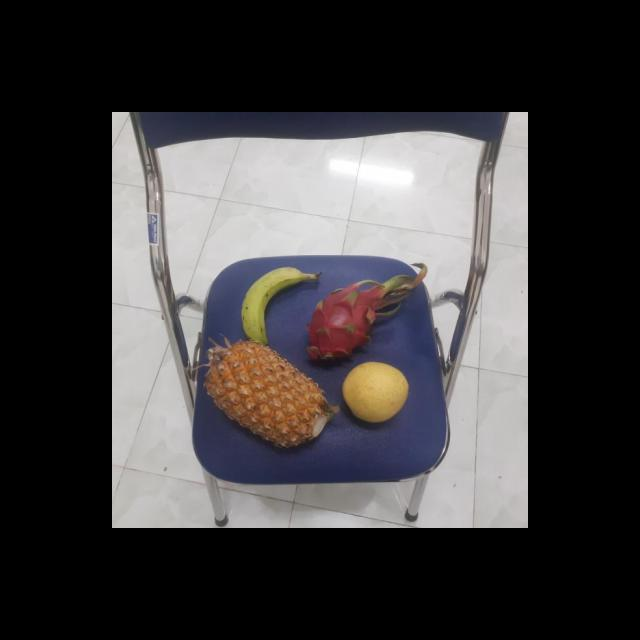banana: (238, 266, 313, 346)
pear: (340, 358, 410, 425)
pineapple: (200, 338, 332, 451)
pitaya: (302, 282, 390, 365)
